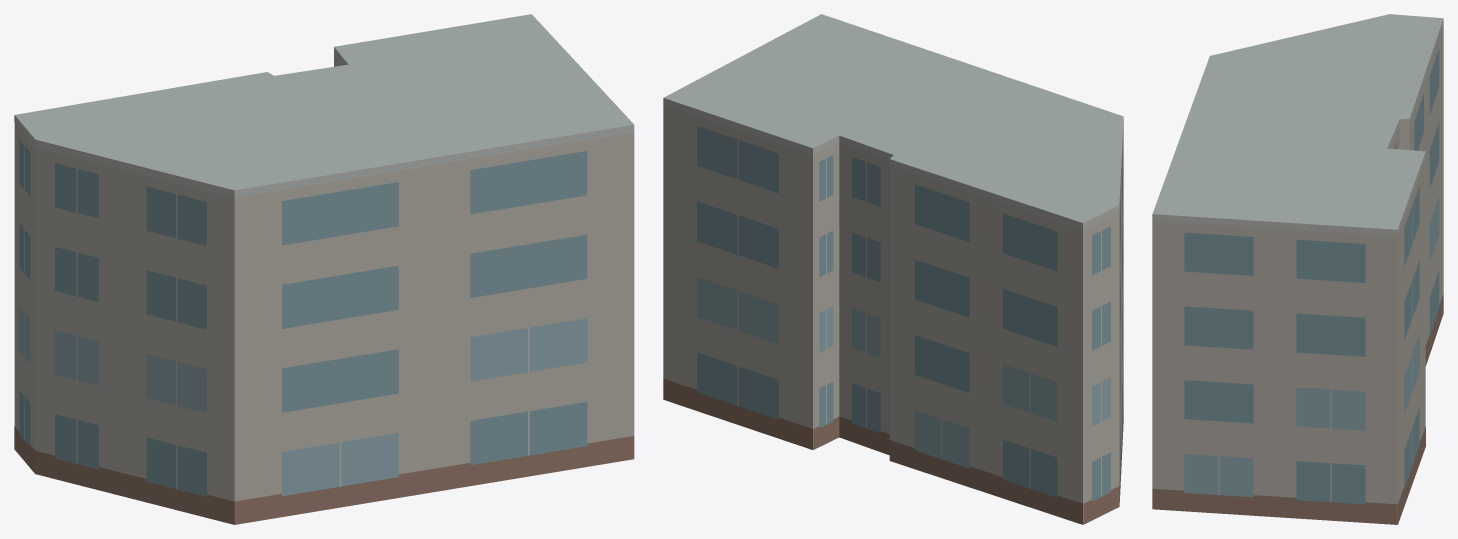
File: survey-upis-32989532.glb
The picture shows the model from 3 angles, left to right: view 1: azimuth 30°, elevation 25°; view 2: azimuth 150°, elevation 25°; view 3: azimuth 270°, elevation 25°; orthographic projection. The views are drawn at different scales.
Parts seen in each view (by area): view 1: survey-upis-32989532.tmp; view 2: survey-upis-32989532.tmp; view 3: survey-upis-32989532.tmp.
Boxes of the visible parts, x1=… form: survey-upis-32989532.tmp: x1=14, y1=14, x2=634, y2=524; survey-upis-32989532.tmp: x1=663, y1=14, x2=1123, y2=524; survey-upis-32989532.tmp: x1=1152, y1=14, x2=1443, y2=524.
Size of the model in its own units: 16.55 by 10.55 by 9.44.
